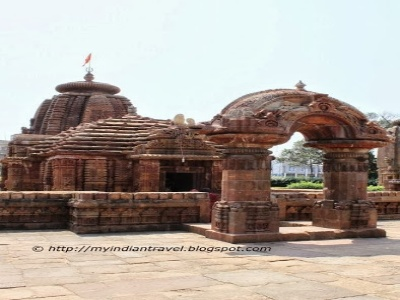amalaka: (40, 68, 135, 99)
torana: (206, 84, 392, 243)
